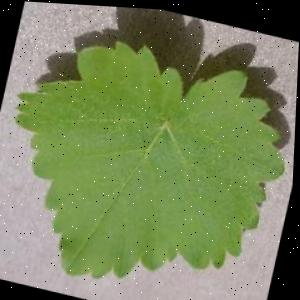Folha: (0, 15, 299, 300)
